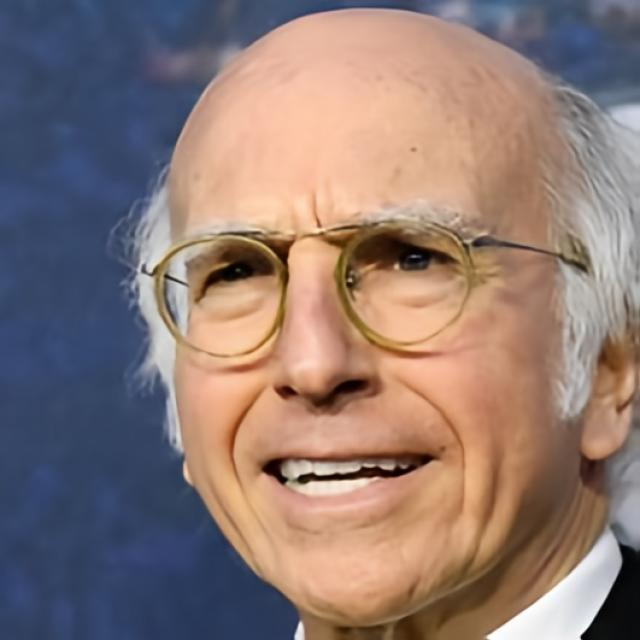anger: (166, 59, 582, 628)
